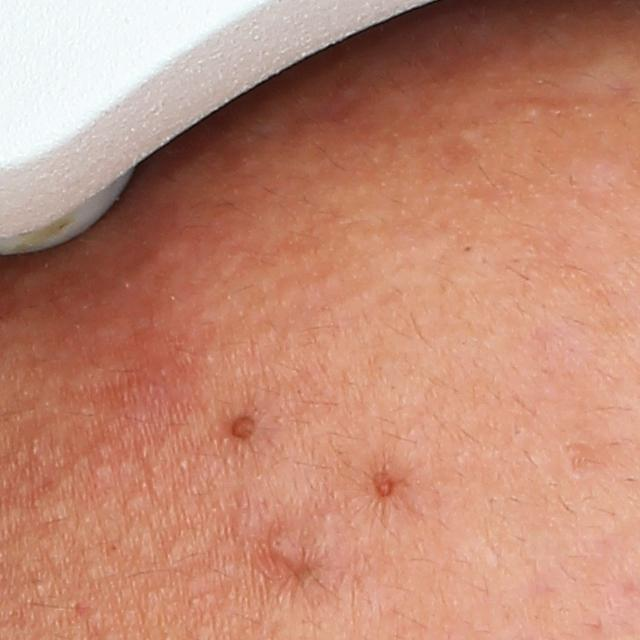atrophic_scar: (556, 435, 612, 482)
comedo: (457, 239, 476, 255)
